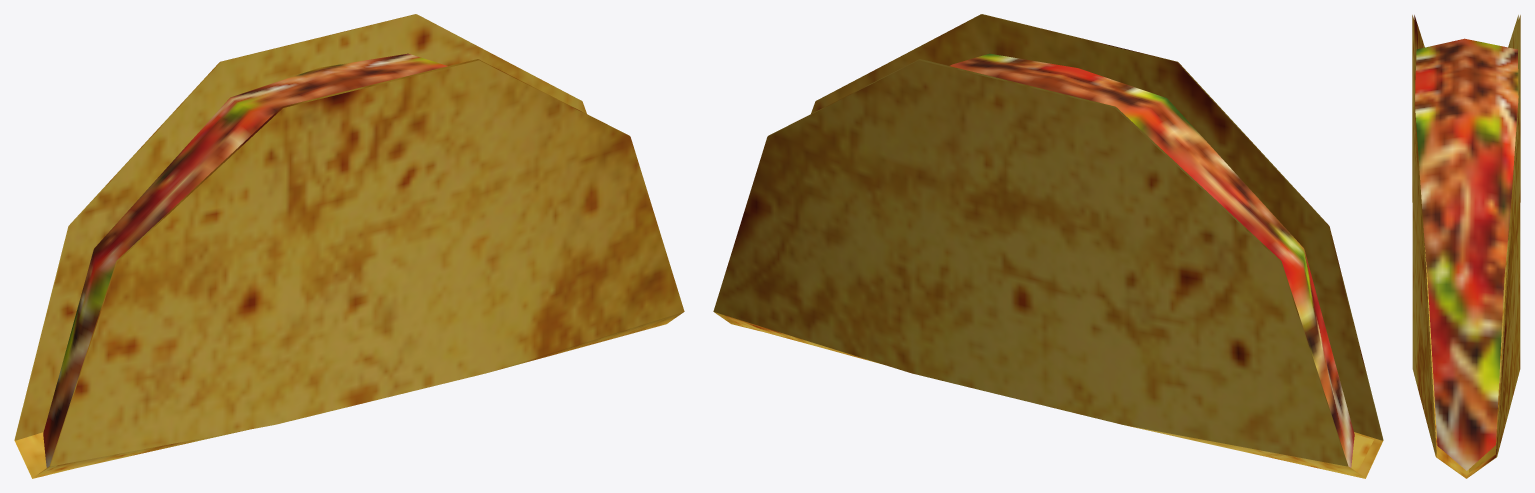
File: Tacos.fbx
3 views of the same model, side by side, from view 1: azimuth 30°, elevation 25°; view 2: azimuth 150°, elevation 25°; view 3: azimuth 270°, elevation 25° (orthographic). The views are drawn at different scales.
Visible parts, largest first — view 1: Tacos; view 2: Tacos; view 3: Tacos.
Boxes of the visible parts, x1,y1,x2,y2 form: Tacos: (14, 14, 684, 478); Tacos: (713, 14, 1383, 478); Tacos: (1412, 15, 1520, 478).
Size of the model in its own units: 210 by 108 by 36.25.
